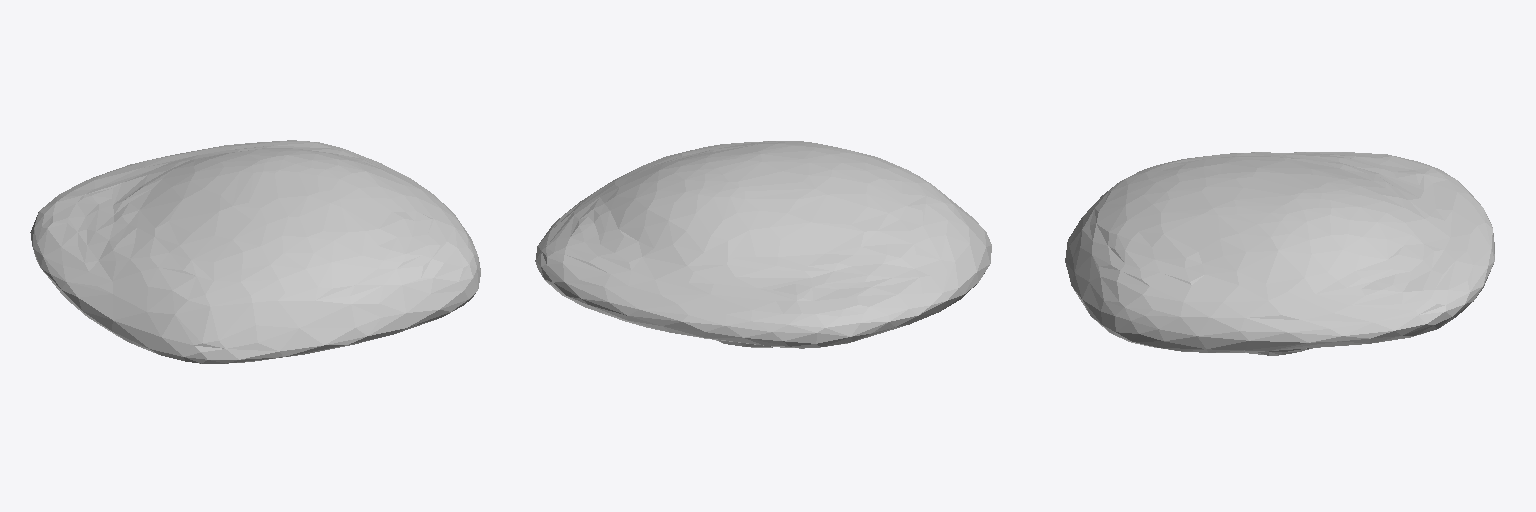
File: mushroom.obj
3 renders of one model, left to right at view 1: azimuth 30°, elevation 25°; view 2: azimuth 150°, elevation 25°; view 3: azimuth 270°, elevation 25°, orthographic.
Parts seen in each view (by area): view 1: Cube; view 2: Cube; view 3: Cube.
Boxes of the visible parts, x1=… form: Cube: x1=30, y1=140, x2=480, y2=363; Cube: x1=535, y1=141, x2=991, y2=348; Cube: x1=1065, y1=152, x2=1494, y2=355.
Bounding box in the file's own units: 660 × 244 × 657.